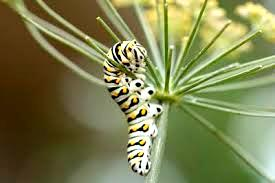Caterpillar: (98, 36, 167, 177)
